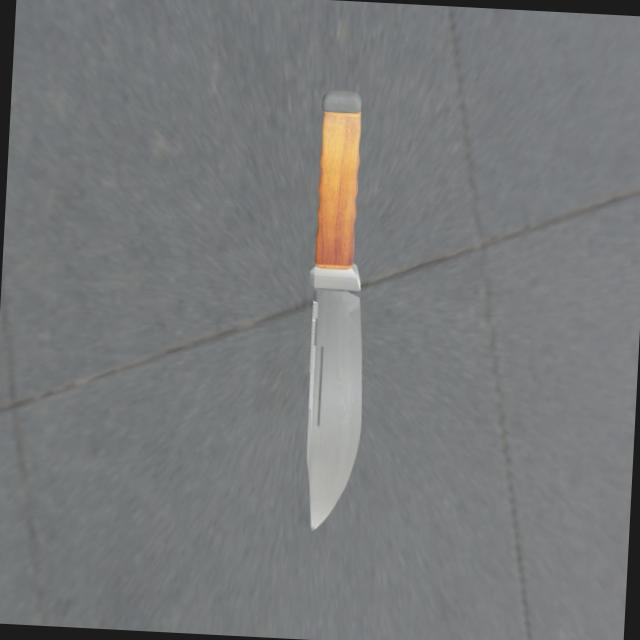knife: (310, 109, 364, 291)
